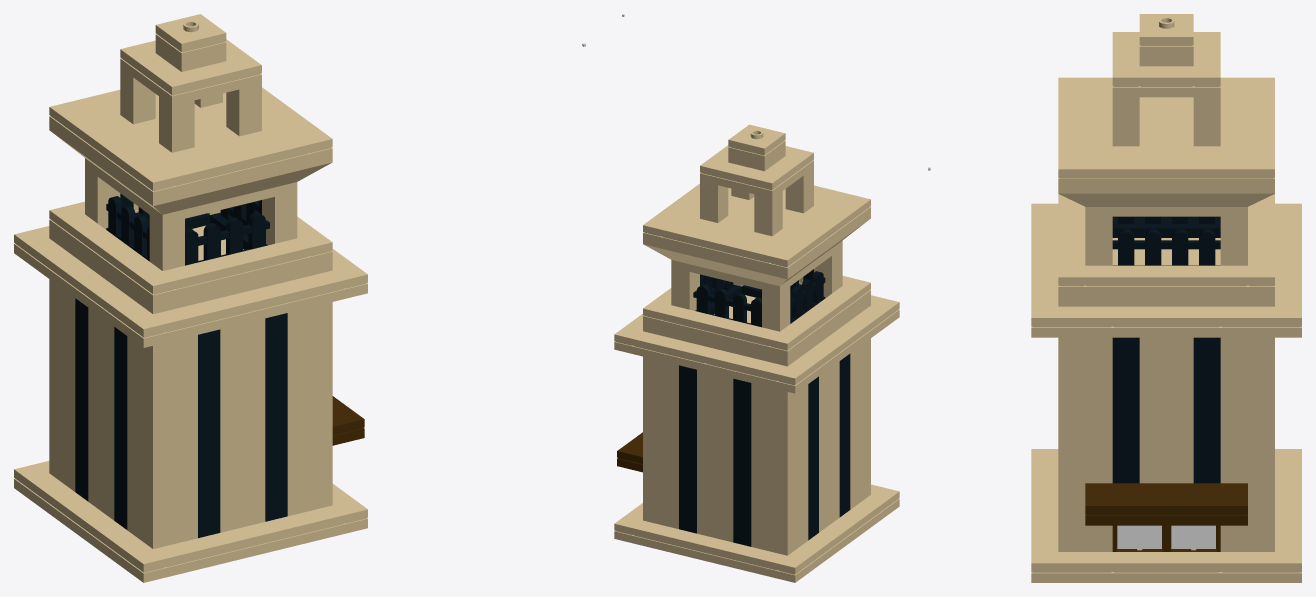
3 views of the same model, side by side, from view 1: azimuth 30°, elevation 25°; view 2: azimuth 150°, elevation 25°; view 3: azimuth 270°, elevation 25° (orthographic). The views are drawn at different scales.
Parts seen in each view (by area): view 1: 迎泽大桥中; view 2: 迎泽大桥中; view 3: 迎泽大桥中.
Part boxes in pixels (x1,y1,x2,y2): 迎泽大桥中: [14, 14, 367, 582]; 迎泽大桥中: [614, 124, 899, 582]; 迎泽大桥中: [1031, 14, 1301, 582].
Size of the model in its own units: 350 by 412 by 276.
